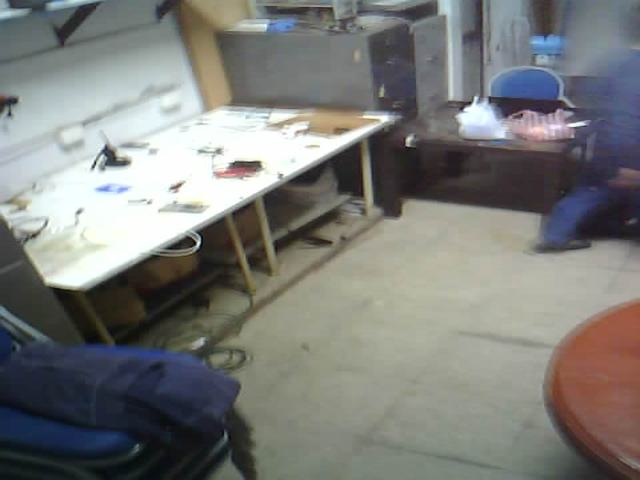person: (539, 0, 640, 281)
